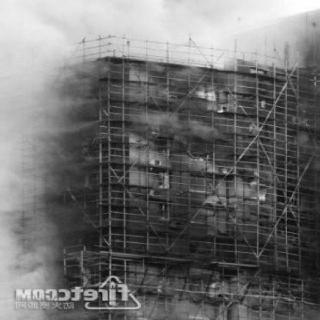Fire: (244, 271, 272, 291), (188, 270, 220, 286)
